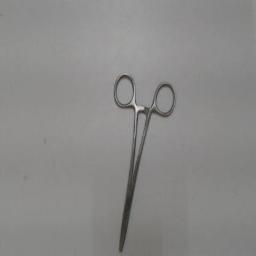Mayo Needle Holder: (108, 67, 180, 255)
